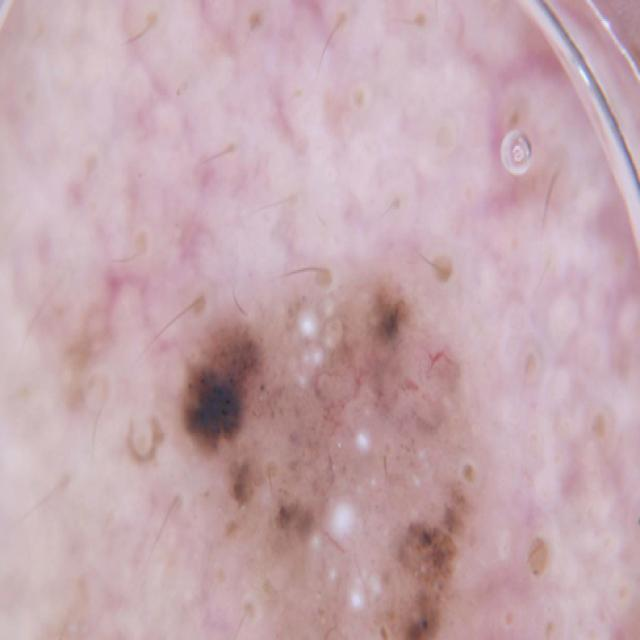Carcinoma: (97, 178, 604, 640)
